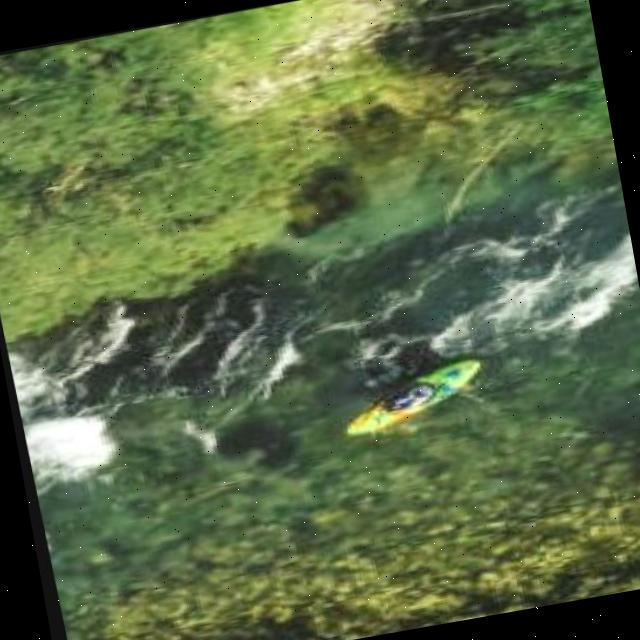kayak: (342, 361, 477, 433)
